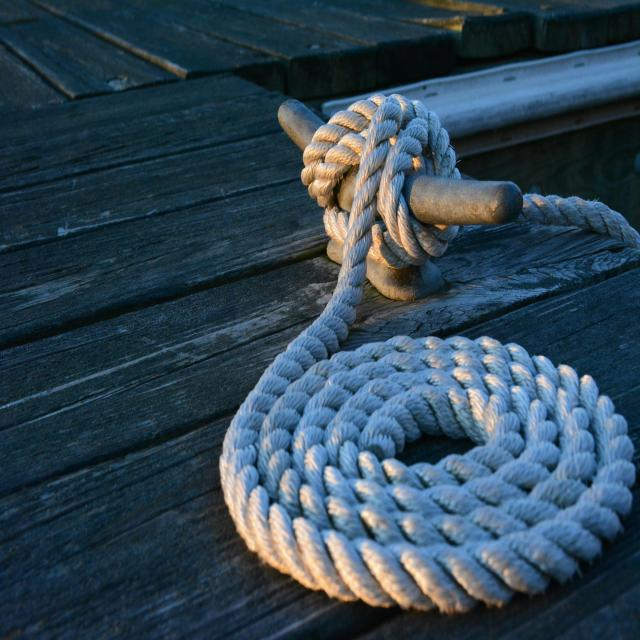Rope: (220, 76, 638, 619)
